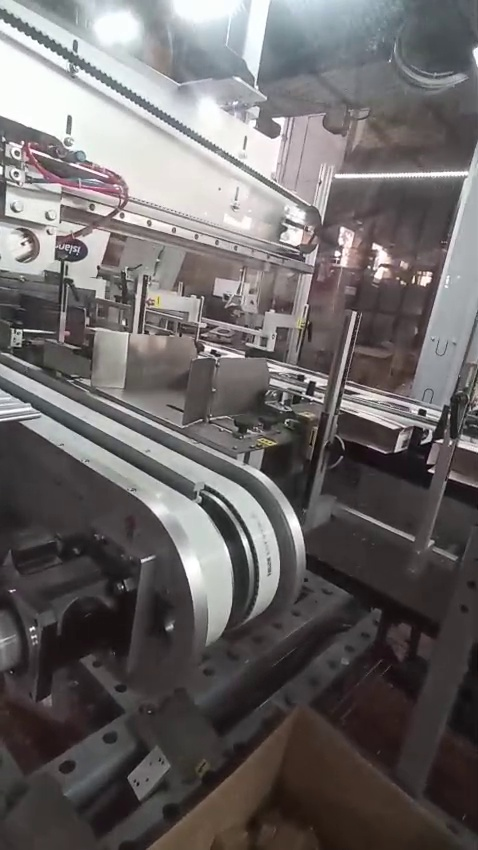savon: (150, 710, 450, 850), (182, 758, 214, 777), (300, 416, 318, 447), (256, 436, 279, 452), (298, 315, 312, 340), (398, 272, 418, 284)
